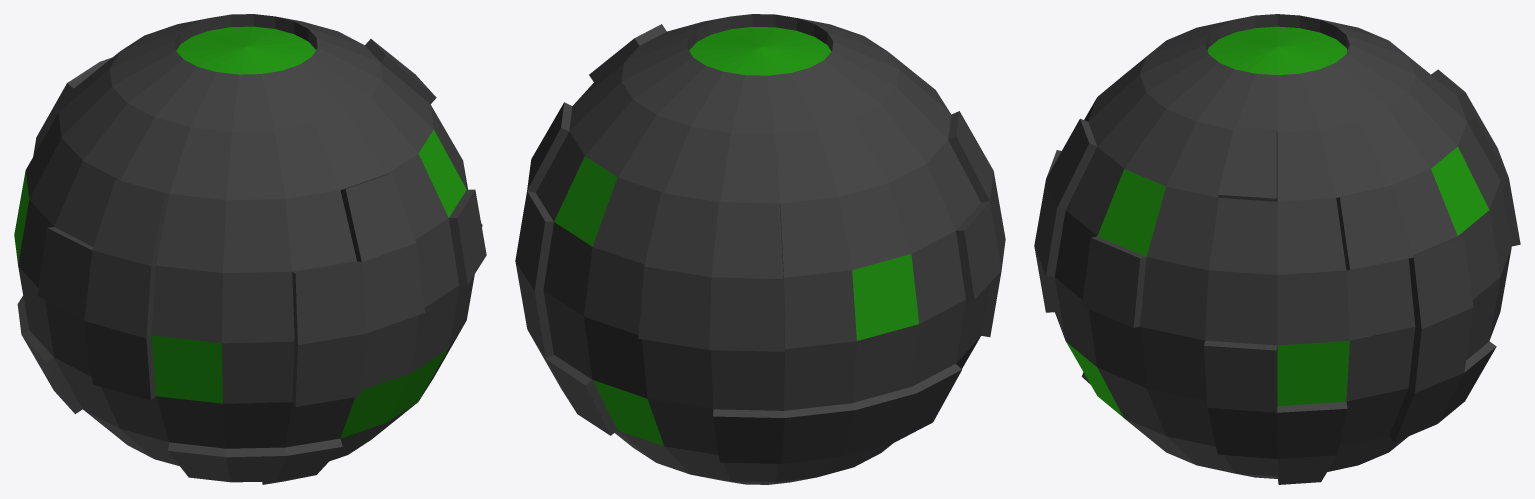
File: Borg_Sphere.fbx
3 renders of one model, left to right at view 1: azimuth 30°, elevation 25°; view 2: azimuth 150°, elevation 25°; view 3: azimuth 270°, elevation 25°, orthographic.
Parts seen in each view (by area): view 1: Sphere; view 2: Sphere; view 3: Sphere.
Boxes of the visible parts, <box> form: Sphere: <box>14,14,486,484</box>; Sphere: <box>515,14,1005,484</box>; Sphere: <box>1034,14,1520,484</box>.
Size of the model in its own units: 415 by 387 by 415.
